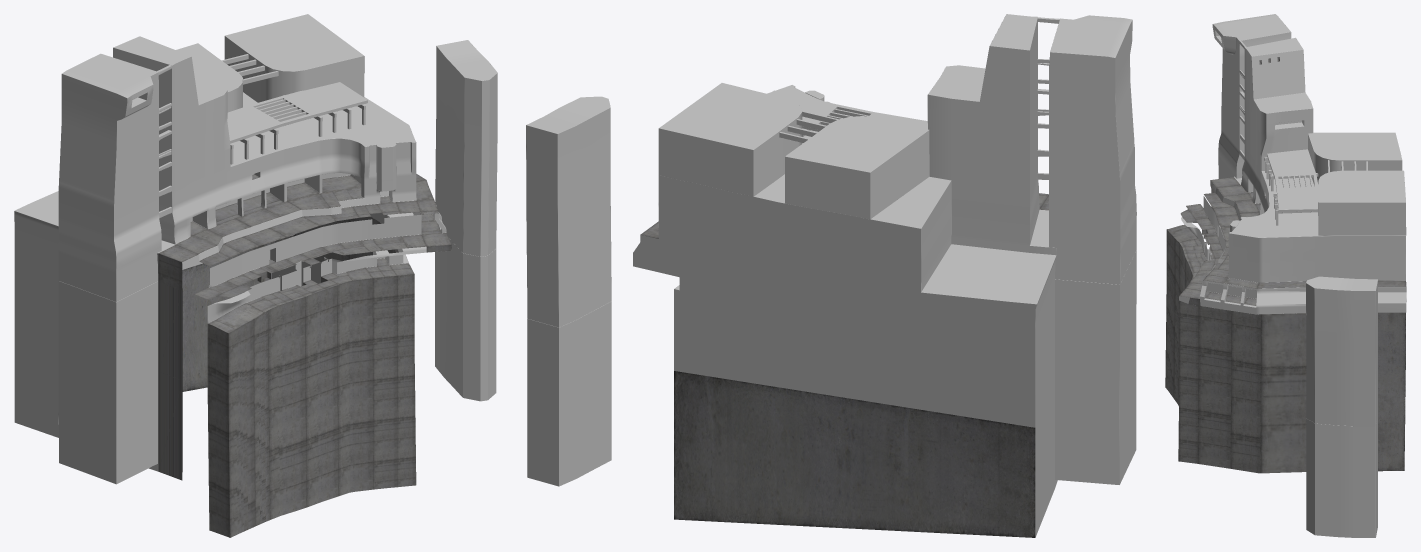
3 renders of one model, left to right at view 1: azimuth 30°, elevation 25°; view 2: azimuth 150°, elevation 25°; view 3: azimuth 270°, elevation 25°, orthographic. The views are drawn at different scales.
Visible parts, largest first — view 1: Cube.043; view 2: Cube.043; view 3: Cube.043.
Part boxes in pixels (x1,y1,x2,y2): Cube.043: [14, 14, 497, 537]; Cube.043: [526, 14, 1136, 537]; Cube.043: [1165, 14, 1406, 537].
Size of the model in its own units: 12651 by 11482 by 7201.
